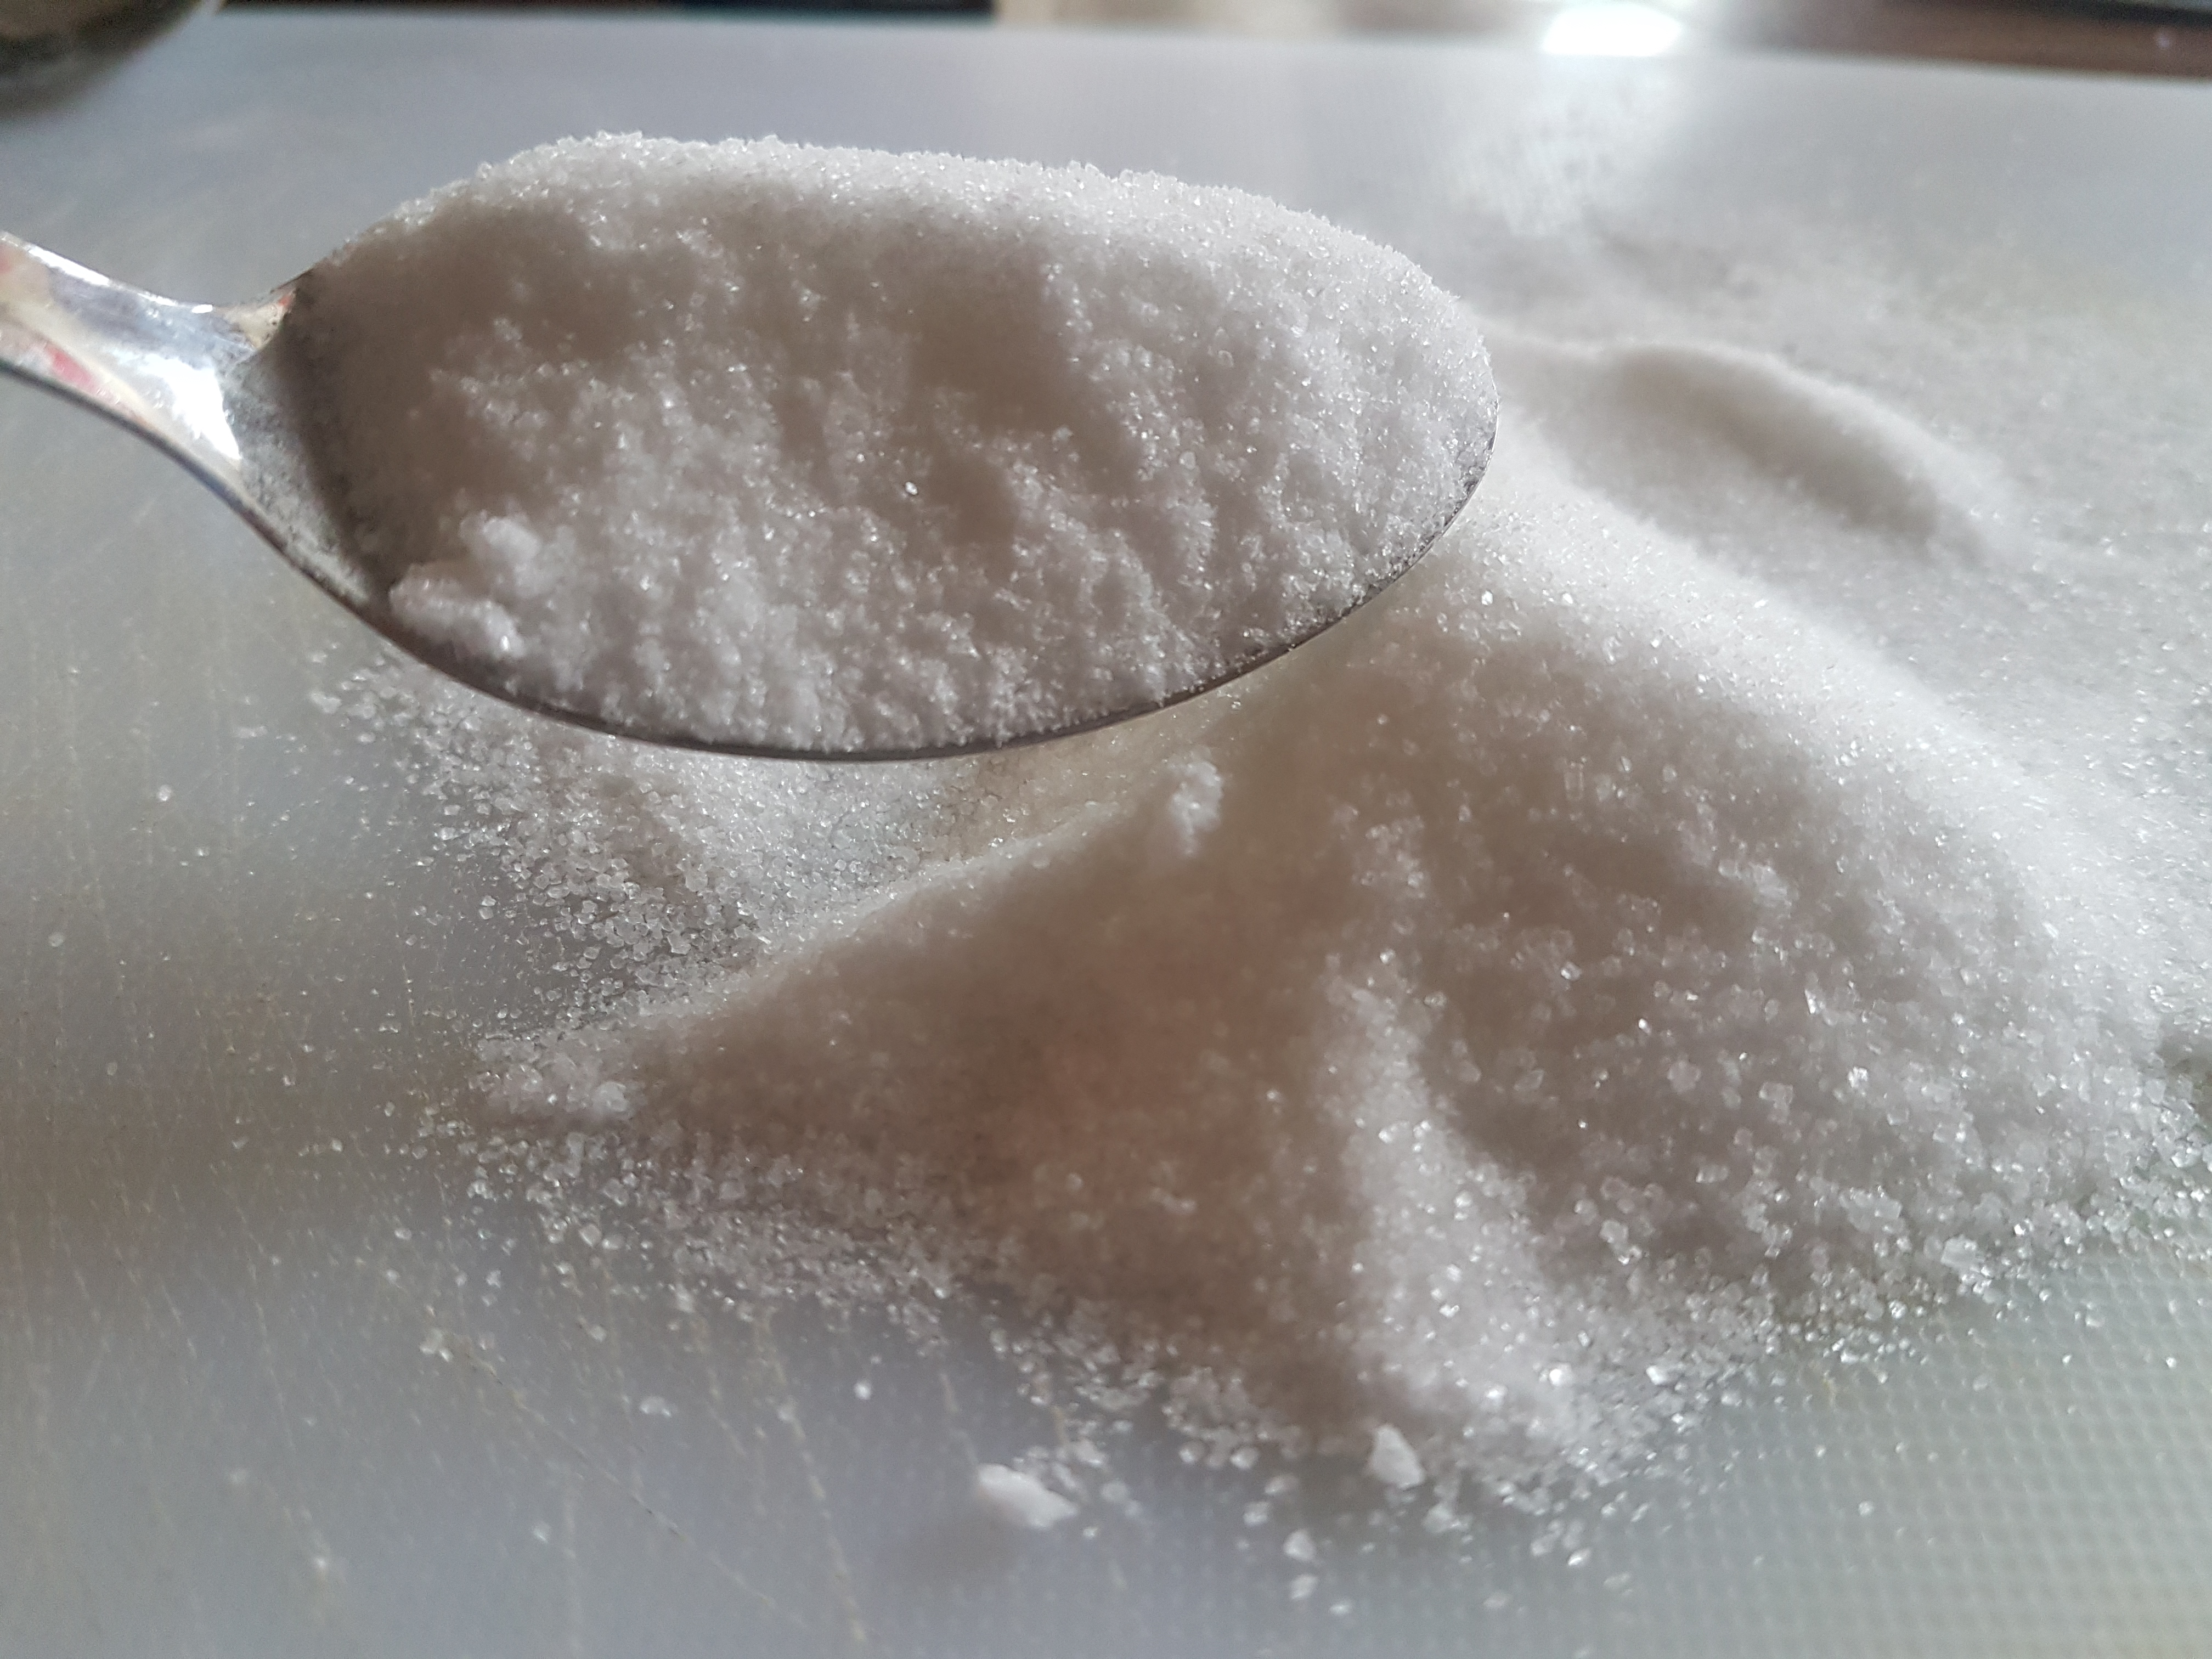Sugar: (543, 694, 2212, 1513), (282, 153, 1486, 735)
